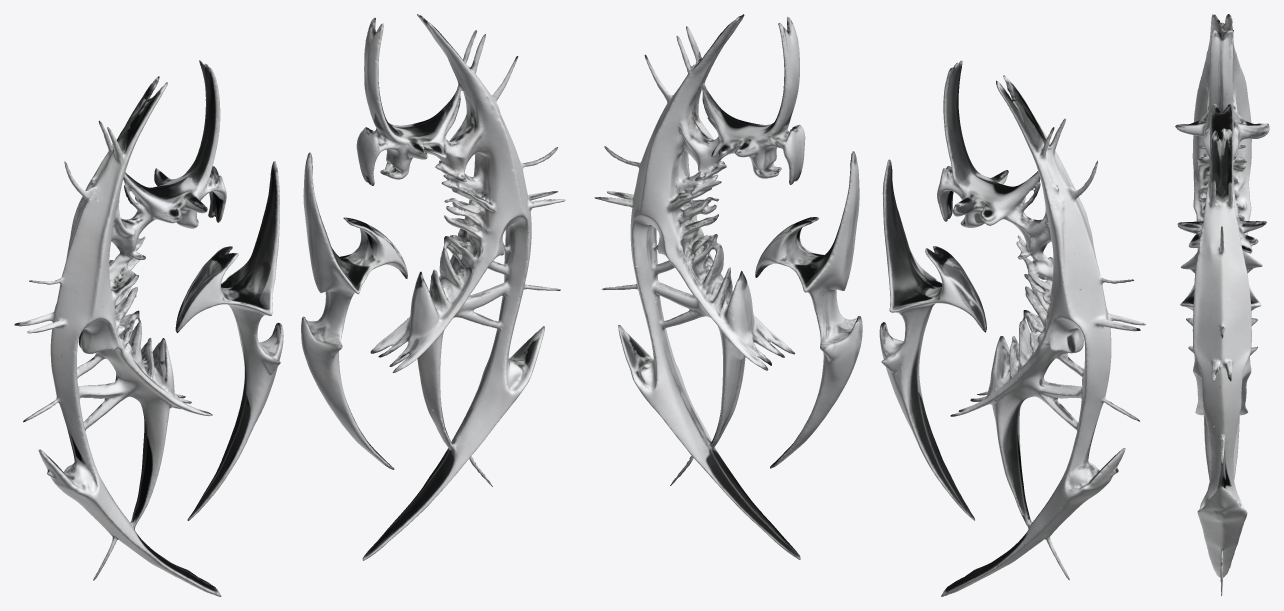
The model's file is meshy-model.glb.
The picture shows the model from 3 angles, left to right: view 1: azimuth 30°, elevation 25°; view 2: azimuth 150°, elevation 25°; view 3: azimuth 270°, elevation 25°; orthographic projection. The views are drawn at different scales.
Bounding box in the file's own units: 2 × 1.89 × 0.3355.
Materials: 1 (1 with a texture image).
